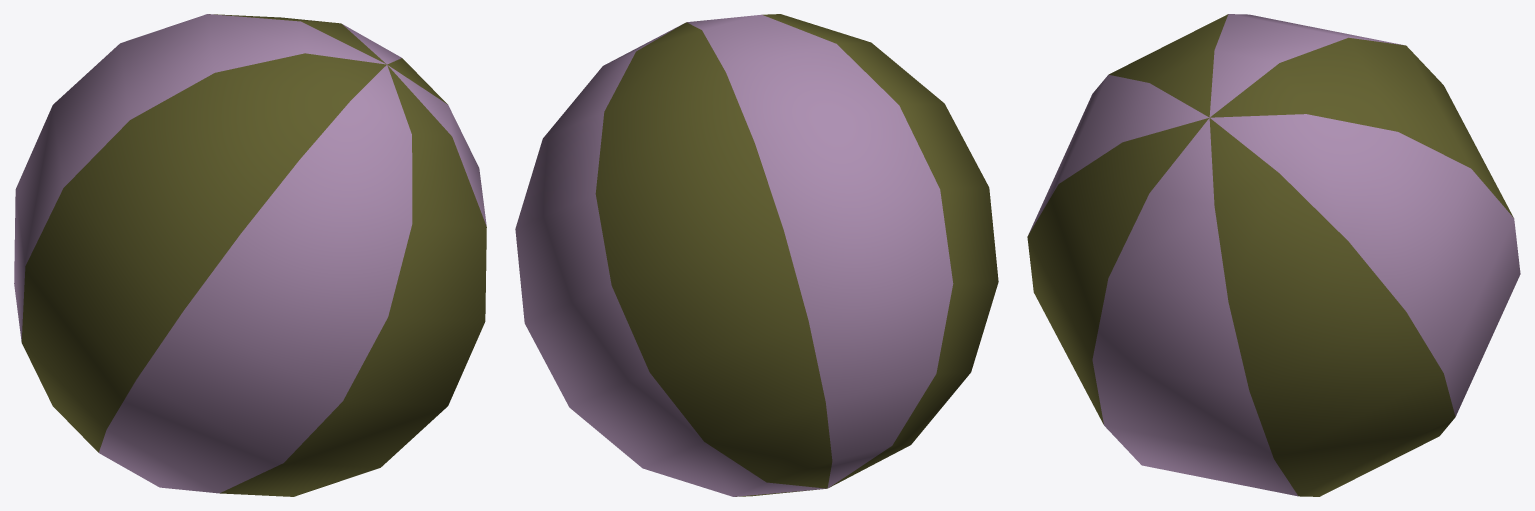
The model's file is Isl_9_Ball_Toy_1.fbx.
3 views of the same model, side by side, from view 1: azimuth 30°, elevation 25°; view 2: azimuth 150°, elevation 25°; view 3: azimuth 270°, elevation 25° (orthographic). The views are drawn at different scales.
Visible parts, largest first — view 1: Isl_9_Ball_Toy_1; view 2: Isl_9_Ball_Toy_1; view 3: Isl_9_Ball_Toy_1.
Boxes of the visible parts, x1,y1,x2,y2 form: Isl_9_Ball_Toy_1: (14,14,486,496); Isl_9_Ball_Toy_1: (515,14,998,496); Isl_9_Ball_Toy_1: (1027,14,1520,496).
Bounding box in the file's own units: 40.65 × 40.92 × 39.99.
1 material, 1 textured.
